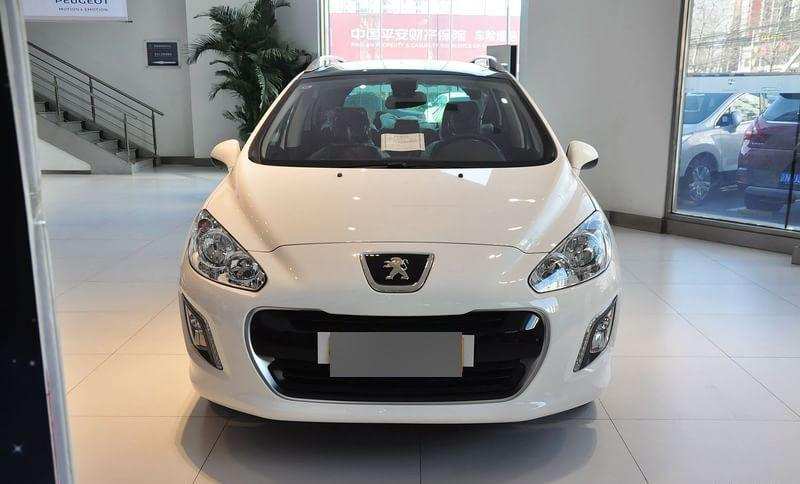Wagon: (177, 54, 621, 426)
